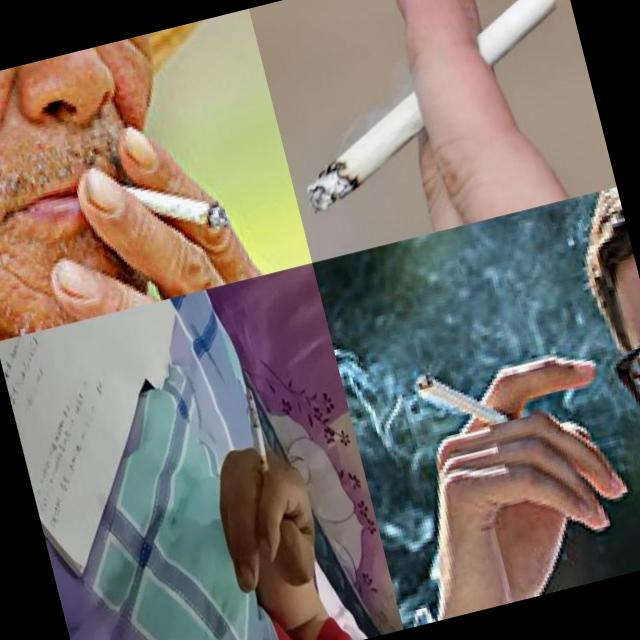cigarette: (269, 0, 593, 215), (94, 147, 231, 258), (408, 352, 510, 441), (238, 385, 280, 497)
